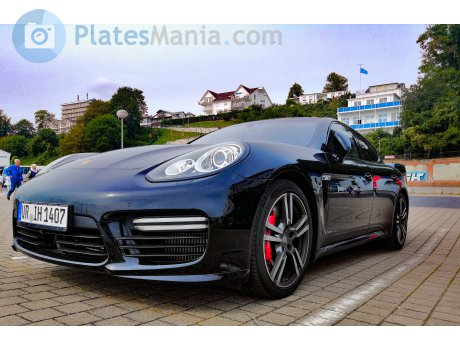License Plates: (24, 205, 60, 224)
